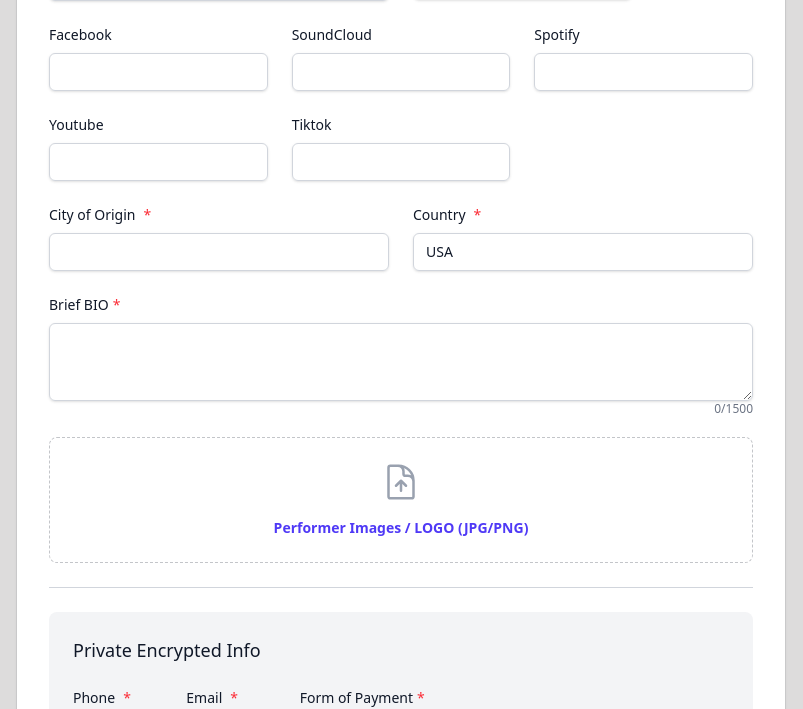
TalentForm › validates bio for repetitive characters
(page scrolled)
Type "aaaaaaaaaaaaa" into the text box labelled "Brief BIO*".
click(401, 362); type("aaaaaaaaaaaaa")  # box top-left (49, 323), bottom-right (753, 401)
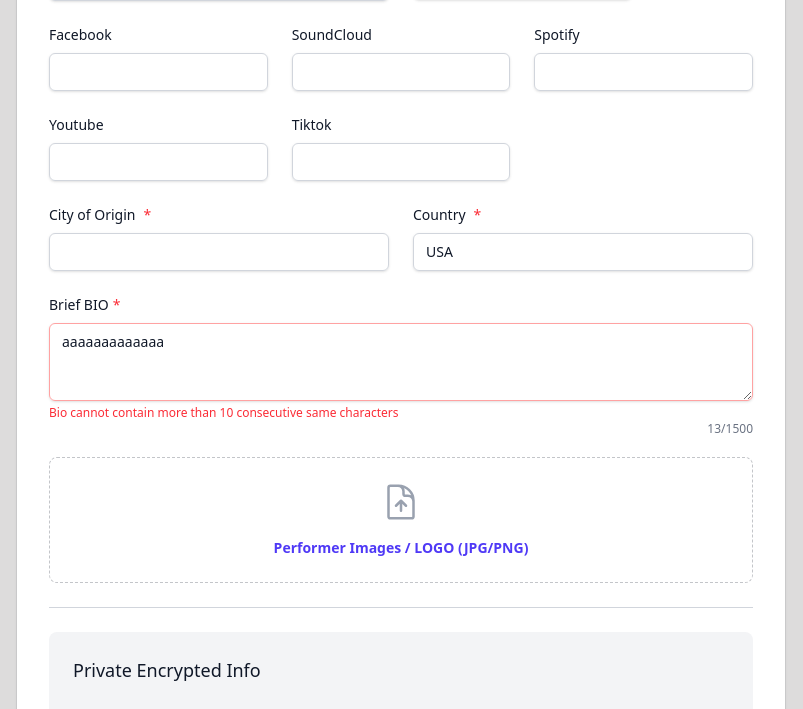
Result: the text "Bio cannot contain more than 10 consecutive same characters" is shown at top-left (49, 404), bottom-right (398, 421)
